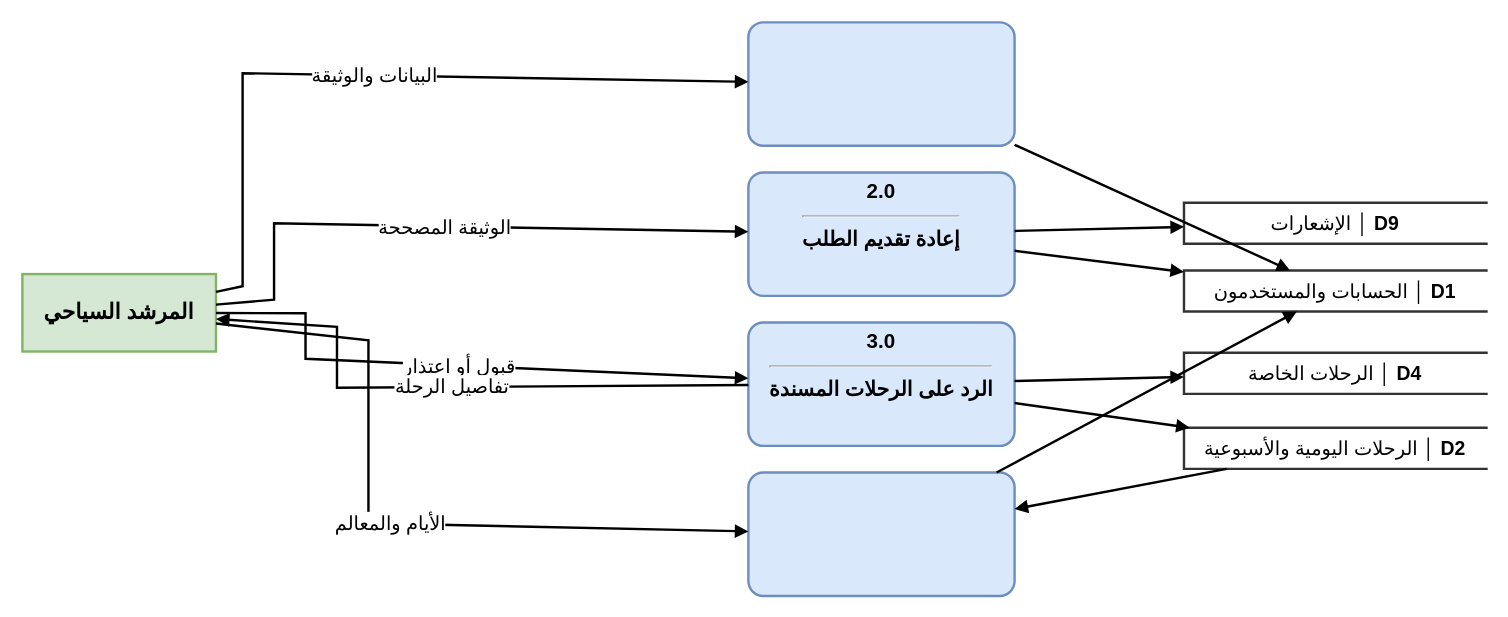
Image size: 1508x617. Some labels were removed from this diagram. Here are the shapes that lost their labels. From the top down, the centre of each, then its label:
pixel 881 83: 1.0 التسجيل وطلب الاعتماد
pixel 881 534: 4.0 تحديث أيام العمل والمعالم
